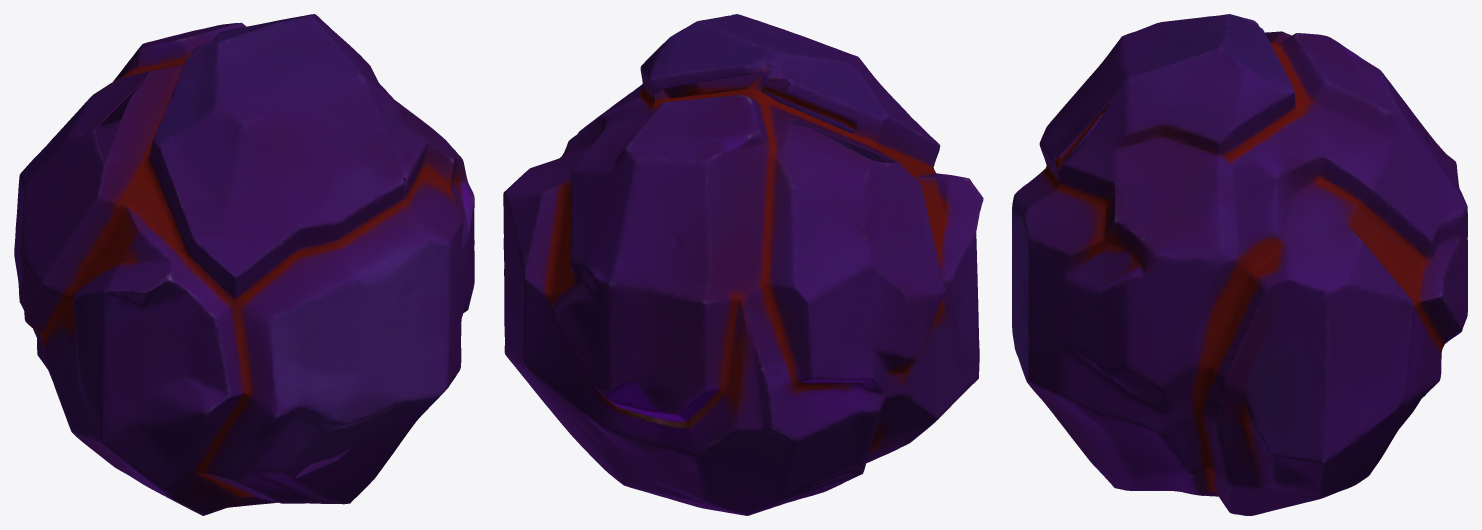
File: mat_mithril.glb
The picture shows the model from 3 angles, left to right: view 1: azimuth 30°, elevation 25°; view 2: azimuth 150°, elevation 25°; view 3: azimuth 270°, elevation 25°; orthographic projection. The views are drawn at different scales.
Visible parts, largest first — view 1: geometry_0; view 2: geometry_0; view 3: geometry_0.
Boxes of the visible parts, bbox=[...] form: geometry_0: bbox=[14, 14, 474, 515]; geometry_0: bbox=[503, 14, 983, 515]; geometry_0: bbox=[1012, 14, 1467, 515].
Size of the model in its own units: 0.5915 by 0.6507 by 0.5684.
1 material, 1 textured.
